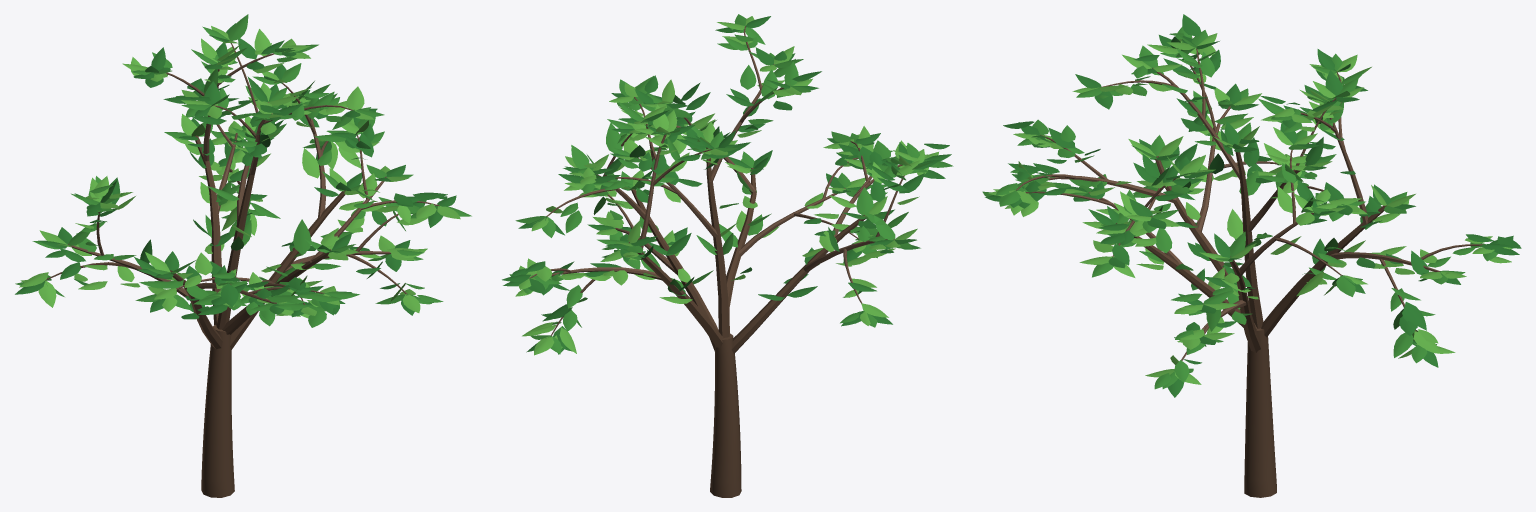
The picture shows the model from 3 angles, left to right: view 1: azimuth 30°, elevation 25°; view 2: azimuth 150°, elevation 25°; view 3: azimuth 270°, elevation 25°; orthographic projection. The views are drawn at different scales.
Parts seen in each view (by area): view 1: body; view 2: body; view 3: body.
Part boxes in pixels (x1,y1,x2,y2): body: [15, 14, 471, 497]; body: [502, 14, 953, 497]; body: [982, 14, 1521, 497].
Bounding box in the file's own units: 1.92 × 2.09 × 2.3.
Materials: 1 (1 with a texture image).
